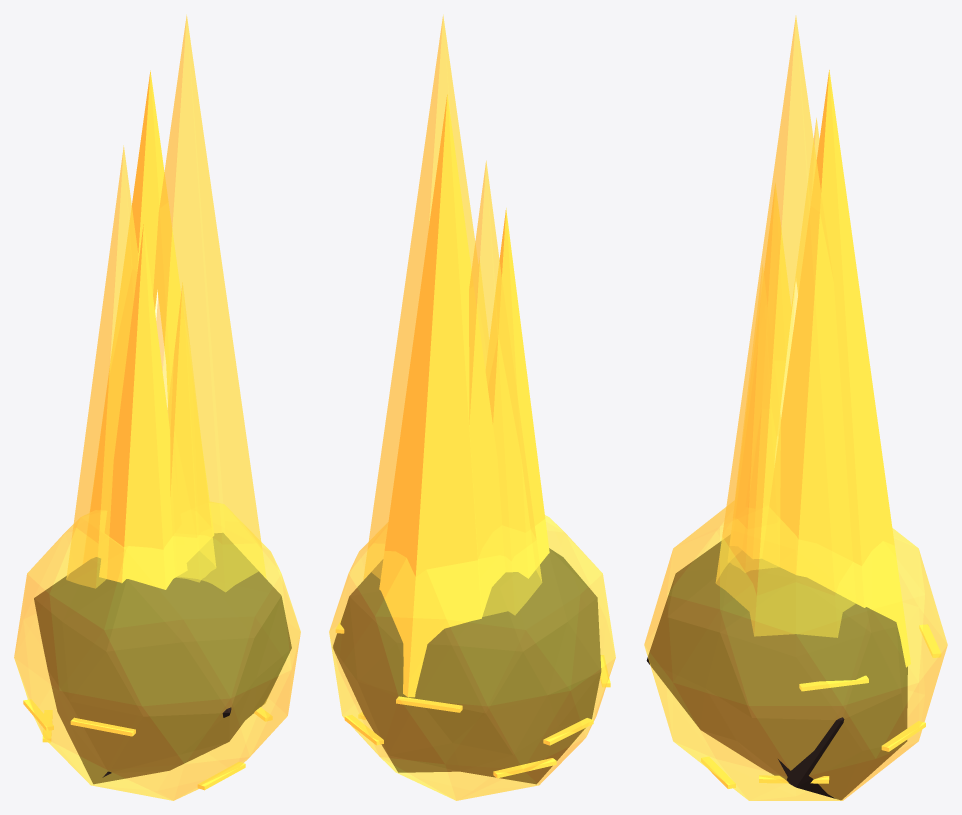
File: fx_meteor_v01.glb
3 renders of one model, left to right at view 1: azimuth 30°, elevation 25°; view 2: azimuth 150°, elevation 25°; view 3: azimuth 270°, elevation 25°, orthographic. The views are drawn at different scales.
Parts seen in each view (by area): view 1: meteor; view 2: meteor; view 3: meteor.
Boxes of the visible parts, <box> form: meteor: <box>14,14,300,800</box>; meteor: <box>329,14,615,800</box>; meteor: <box>644,15,947,800</box>.
Size of the model in its own units: 0.9891 by 3.01 by 1.04.
